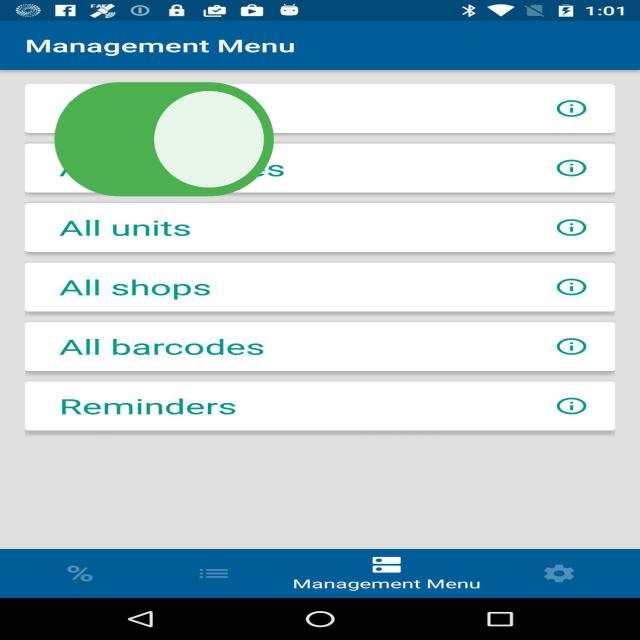social proof: (44, 38, 284, 249)
